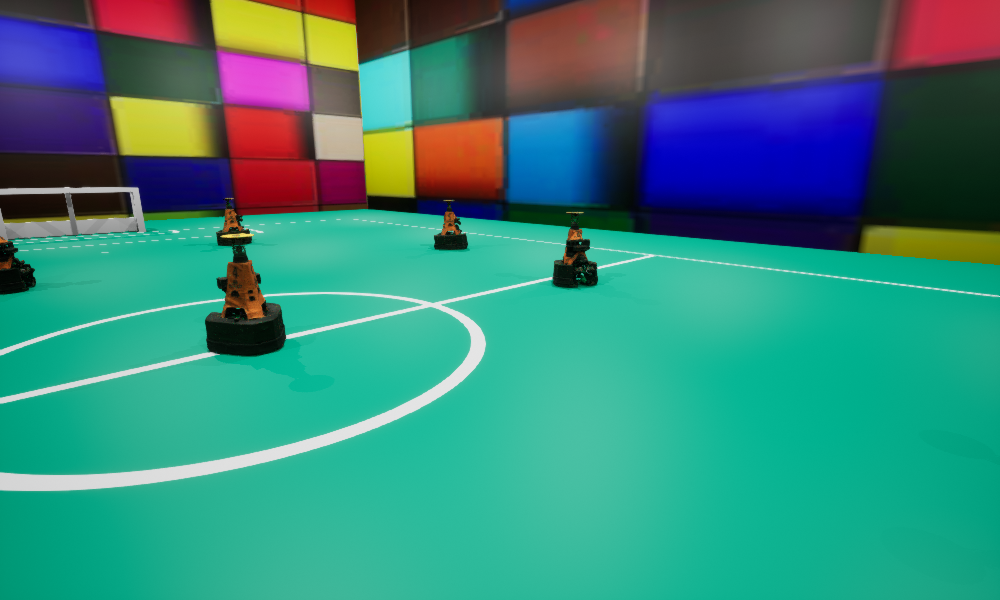0 orange robot TechUnited: (205, 233, 285, 355), (553, 212, 597, 287), (0, 236, 35, 294), (216, 198, 251, 245), (434, 200, 467, 249)
